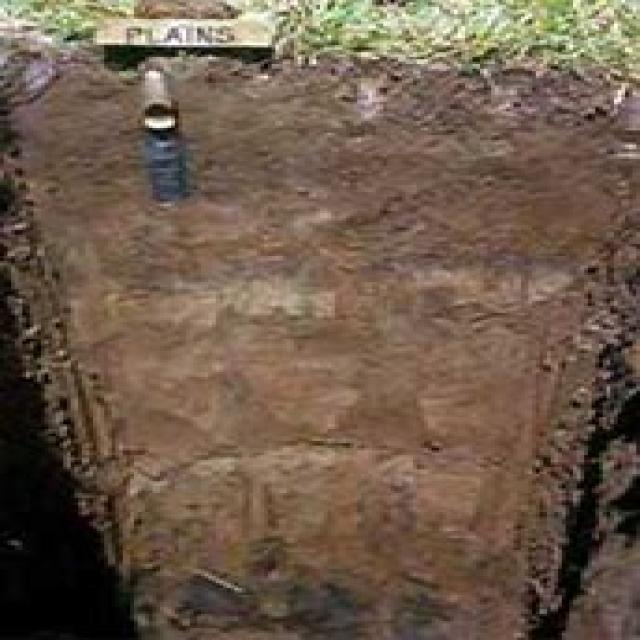Alluvial Soil: (97, 193, 524, 582)
